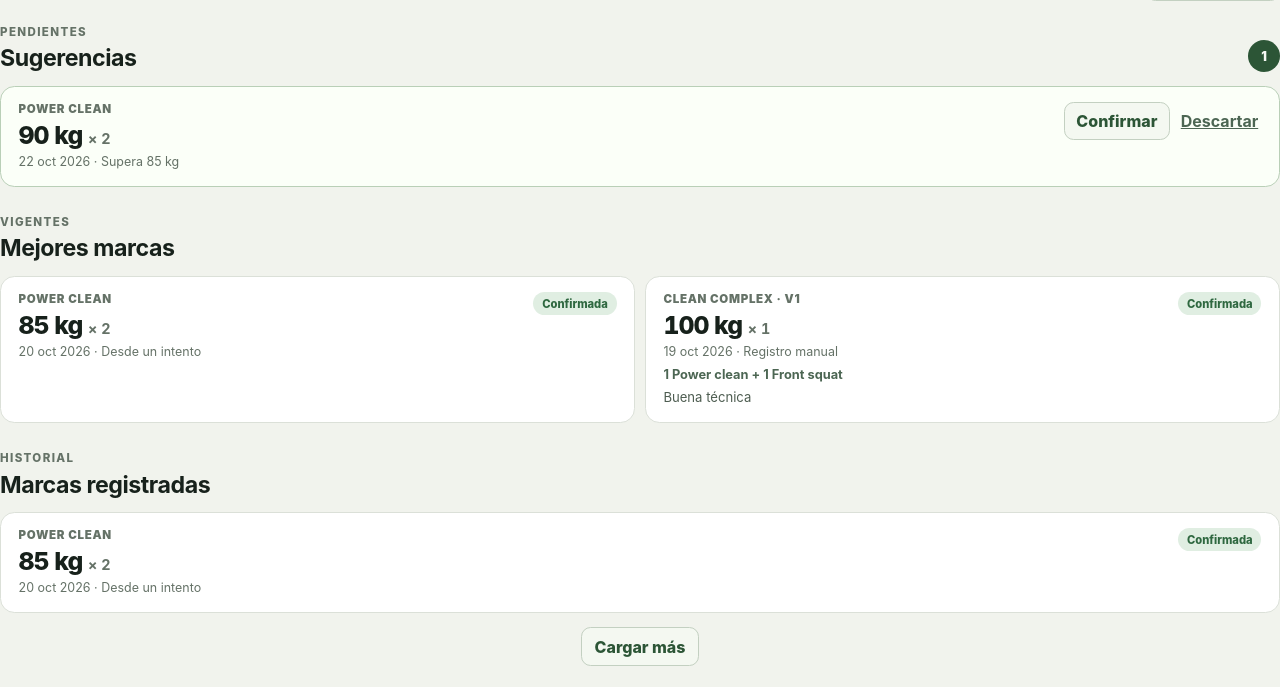
Test: PersonalRecordsScreen › loads more history
(page scrolled)
Click the button "Cargar más". click: (640, 646)
box: [581, 627, 699, 666]
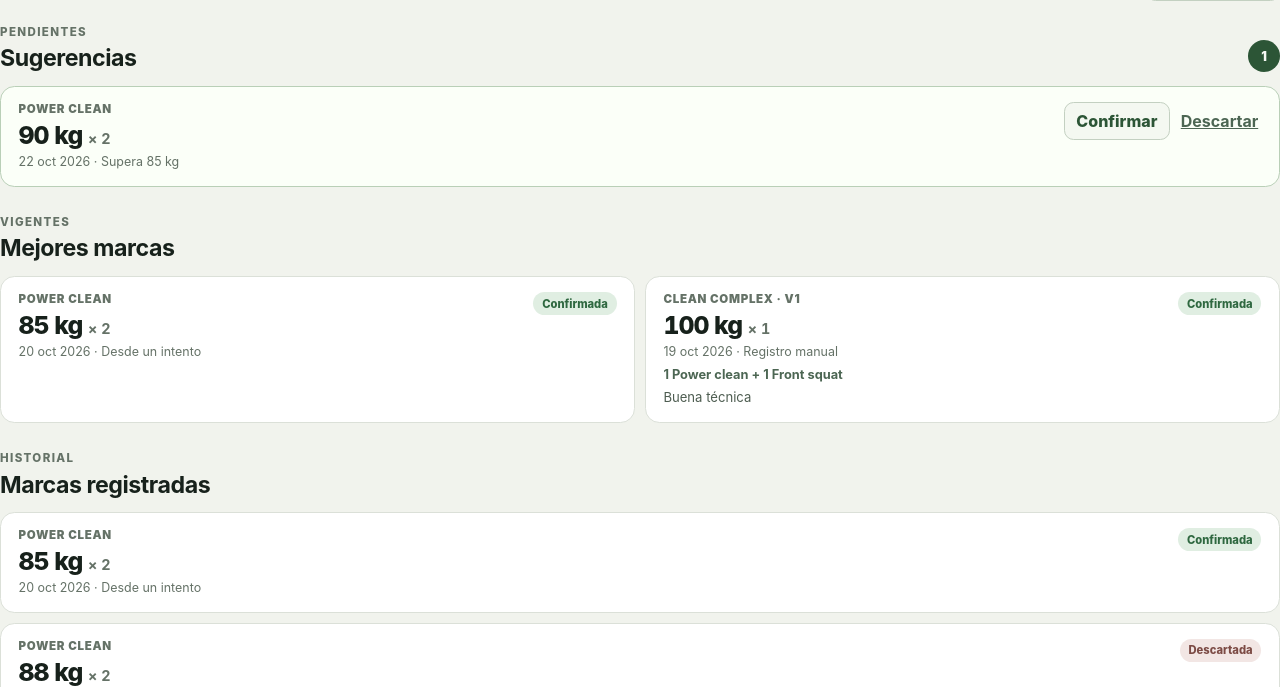
expect the text "Descartada" is shown: met, box [1180, 639, 1261, 662]
